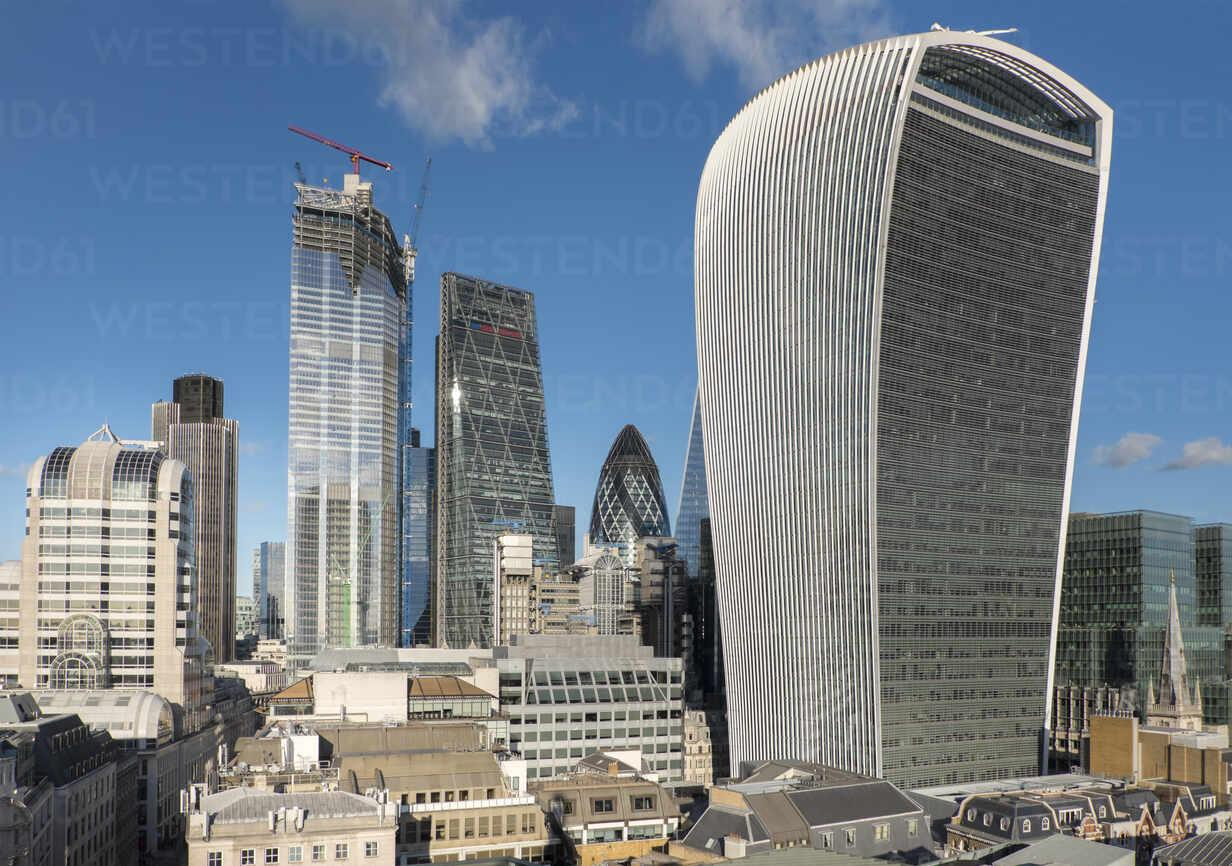Walkie talkie: (684, 26, 1126, 766)
